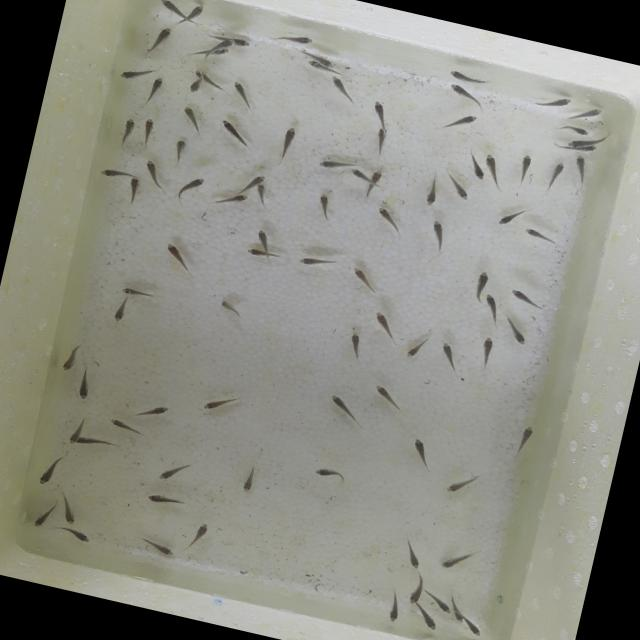fingerling: (366, 201, 411, 241), (441, 78, 488, 114), (268, 122, 302, 167), (154, 237, 198, 271), (436, 467, 478, 502), (324, 392, 366, 424), (102, 414, 150, 442), (215, 118, 258, 149), (437, 108, 484, 136), (366, 381, 406, 413), (134, 396, 174, 428), (400, 432, 436, 467), (432, 338, 464, 377), (442, 170, 478, 204), (183, 516, 219, 550), (54, 520, 94, 549), (173, 103, 210, 134), (506, 286, 550, 312), (227, 76, 260, 110), (402, 330, 434, 365), (210, 185, 251, 212), (142, 488, 188, 512), (146, 23, 174, 62), (568, 102, 610, 128), (68, 370, 100, 404), (476, 152, 506, 188), (34, 453, 64, 488), (346, 266, 383, 294), (294, 250, 336, 274), (437, 546, 475, 572), (154, 458, 188, 487), (422, 170, 445, 212), (324, 74, 356, 104), (138, 536, 178, 560), (339, 327, 368, 360), (446, 68, 489, 90), (458, 151, 489, 181), (500, 316, 532, 345), (112, 60, 148, 85), (478, 292, 503, 328), (476, 334, 501, 370), (114, 282, 159, 302), (198, 391, 234, 416), (490, 201, 522, 229), (368, 124, 394, 158), (520, 225, 558, 248), (363, 97, 393, 126), (141, 73, 169, 104), (58, 342, 83, 376), (178, 172, 208, 200), (398, 538, 425, 569), (279, 29, 317, 51), (567, 153, 593, 185), (538, 91, 574, 114), (512, 152, 536, 186), (542, 158, 566, 192), (299, 46, 336, 68), (412, 607, 443, 633), (241, 244, 285, 262), (422, 590, 455, 614), (368, 308, 396, 336), (54, 496, 82, 524), (426, 218, 451, 249), (194, 40, 230, 61), (210, 30, 252, 48), (237, 167, 268, 191), (114, 116, 138, 145), (108, 296, 132, 325), (317, 153, 350, 174), (137, 116, 160, 146), (305, 58, 341, 77), (384, 590, 403, 626), (406, 572, 426, 606), (30, 504, 56, 530), (364, 166, 386, 196), (468, 268, 490, 298), (212, 297, 245, 317), (237, 465, 259, 495), (180, 0, 204, 27), (312, 464, 348, 482), (556, 122, 593, 139), (313, 192, 337, 218), (460, 618, 488, 640), (512, 423, 530, 457), (156, 0, 186, 19), (251, 228, 276, 250), (138, 158, 164, 179), (168, 138, 190, 162), (95, 163, 126, 180), (207, 34, 235, 52), (125, 174, 144, 200), (250, 184, 272, 206), (76, 434, 110, 448), (67, 418, 83, 445), (448, 604, 468, 624), (572, 142, 600, 156), (194, 69, 218, 85), (186, 75, 204, 94), (350, 167, 371, 183), (567, 138, 588, 150)
